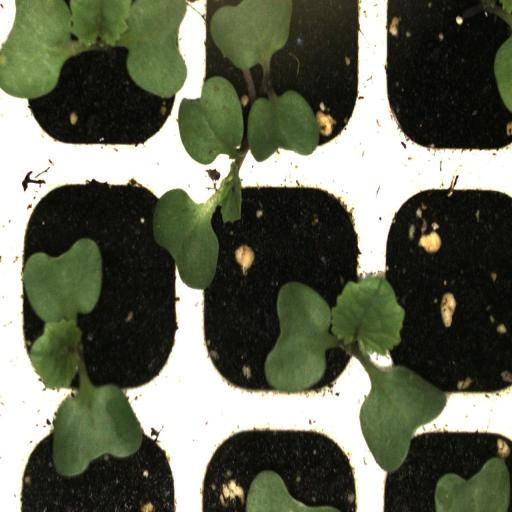noseedling: (378, 172, 512, 421)
seedling: (190, 173, 378, 422), (8, 172, 188, 416), (9, 0, 190, 173)
twoseedling: (188, 0, 377, 173)
